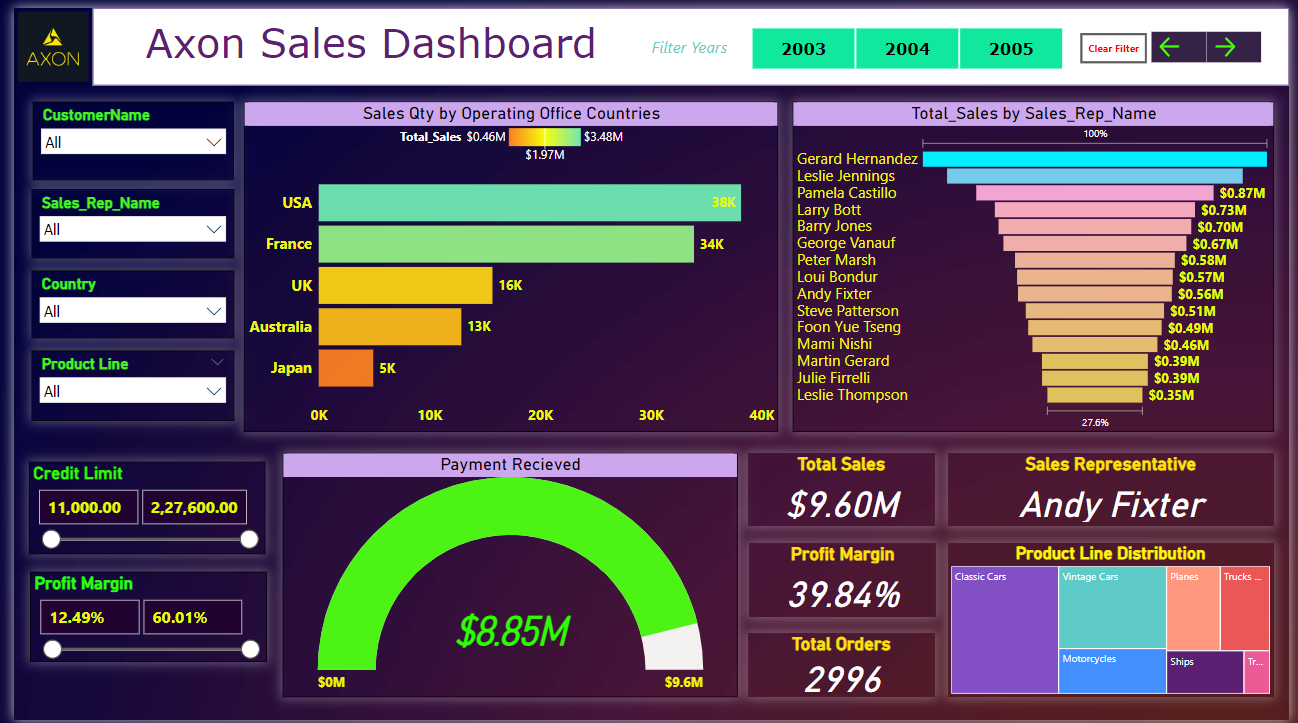

The dashboard page shown, as its layout file describes it:
{"tool":"powerbi","page":{"name":"Customer & Employee Analysis","canvas":[1700,950],"ordinal":5},"visuals":[{"type":"image","box":[0,0,105,103.4],"z":0},{"type":"slicer","fields":{"Values":["classicmodels customers.CustomerName"]},"box":[25,125,268.3,105],"z":1000},{"type":"barChart","title":"Sales Qty by Operating Office Countries","fields":{"Category":["classicmodels offices.country"],"Y":["Base_Measures.Sales_Qty"]},"box":[306.7,125,711.7,440],"z":2000},{"type":"funnel","fields":{"Y":["Base_Measures.Sales_Revenue"],"Category":["classicmodels customers.Sales_Rep_Name"]},"box":[1038.3,125,641.7,440],"z":3000},{"type":"card","title":"Total Orders","fields":{"Values":["CountNonNull(classicmodels orderdetails.orderNumber)"]},"box":[979,833.1,249.6,85.9],"z":4000},{"type":"slicer","fields":{"Values":["classicmodels customers.Sales_Rep_Name"]},"box":[23.3,241.7,270,91.7],"z":5000},{"type":"slicer","fields":{"Values":["classicmodels customers.country"]},"box":[23.3,350,270,90],"z":6000},{"type":"slicer","fields":{"Values":["classicmodels productlines.Product Line"]},"box":[23.3,456.7,270,93.3],"z":7000},{"type":"slicer","title":"Profit Margin","fields":{"Values":["classicmodels orderdetails.Profit_Margin"]},"box":[21,752,315,120],"z":8000},{"type":"card","title":"Sales Representative","fields":{"Values":["Min(classicmodels customers.Sales_Rep_Name)"]},"box":[1244.9,593.3,434.4,97.3],"z":9000},{"type":"treemap","title":"Product Line Distribution","fields":{"Group":["classicmodels productlines.Product Line"],"Values":["CountNonNull(classicmodels orderdetails.orderNumber)"]},"box":[1244.9,713.2,434.4,205.9],"z":10000},{"type":"card","title":"Profit Margin","fields":{"Values":["Base_Measures.Profit_Margin"]},"box":[980.6,713.2,249.6,98.9],"z":11000},{"type":"card","title":"Total Sales","fields":{"Values":["Base_Measures.Sales_Revenue"]},"box":[979,593.3,249.6,97.3],"z":12000},{"type":"gauge","title":"Payment Recieved","fields":{"Y":["Sum(classicmodels payments.Pay_Amount)"],"MaxValue":["Sum(classicmodels orderdetails.Order_Value)"]},"box":[358.2,593.3,606.2,325.8],"z":13000},{"type":"shape","box":[104.8,0,1595.2,103.2],"z":14000},{"type":"textbox","box":[114.5,8.1,722.6,79],"z":15000},{"type":"slicer","title":"Year","fields":{"Values":["DATES.Date.Variation.Date Hierarchy.Year"]},"box":[958,19.5,463.6,68.1],"z":16000},{"type":"actionButton","box":[1590.1,32.4,72.9,40.5],"z":17000},{"type":"actionButton","box":[1421.5,34,89.1,40.5],"z":18000},{"type":"textbox","box":[837,31.8,127.3,44.6],"z":19000},{"type":"actionButton","box":[1517.2,32.4,72.9,40.5],"z":20000},{"type":"slicer","title":"Credit Limit","fields":{"Values":["classicmodels customers.creditLimit"]},"box":[19.3,605.3,315,123.3],"z":21000}]}

Visuals, with their boxes in screenshot pixels (x1, y1, x2, y2), scaled from the page's 1700x950 canvas onto the 1298x723 screenshot:
image: left=0, top=0, right=80, bottom=79
slicer - classicmodels customers.CustomerName: left=19, top=95, right=224, bottom=175
"Sales Qty by Operating Office Countries" barChart: left=234, top=95, right=778, bottom=430
funnel - Base_Measures.Sales_Revenue x classicmodels customers.Sales_Rep_Name: left=793, top=95, right=1283, bottom=430
"Total Orders" card: left=747, top=634, right=938, bottom=699
slicer - classicmodels customers.Sales_Rep_Name: left=18, top=184, right=224, bottom=254
slicer - classicmodels customers.country: left=18, top=266, right=224, bottom=335
slicer - classicmodels productlines.Product Line: left=18, top=348, right=224, bottom=419
"Profit Margin" slicer: left=16, top=572, right=257, bottom=664
"Sales Representative" card: left=951, top=452, right=1282, bottom=526
"Product Line Distribution" treemap: left=951, top=543, right=1282, bottom=699
"Profit Margin" card: left=749, top=543, right=939, bottom=618
"Total Sales" card: left=747, top=452, right=938, bottom=526
"Payment Recieved" gauge: left=273, top=452, right=736, bottom=699
shape: left=80, top=0, right=1297, bottom=79
textbox: left=87, top=6, right=639, bottom=66
"Year" slicer: left=731, top=15, right=1085, bottom=67
actionButton: left=1214, top=25, right=1270, bottom=55
actionButton: left=1085, top=26, right=1153, bottom=57
textbox: left=639, top=24, right=736, bottom=58
actionButton: left=1158, top=25, right=1214, bottom=55
"Credit Limit" slicer: left=15, top=461, right=255, bottom=555
